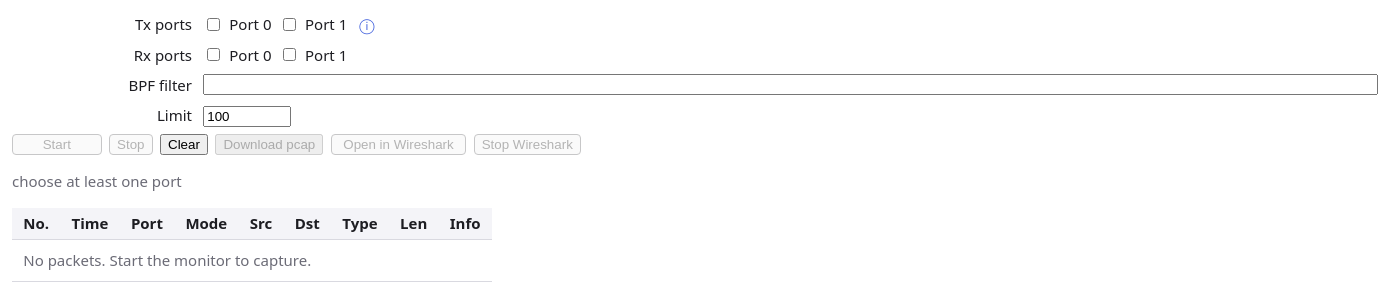
it: CaptureMonitor › a limit above 10000 shows the memory note
The width and height of the screenshot is (1390, 300).
Replace the text in the number field labelled "Limit" with "10001": (247, 116) top-left (203, 106), bottom-right (291, 126)
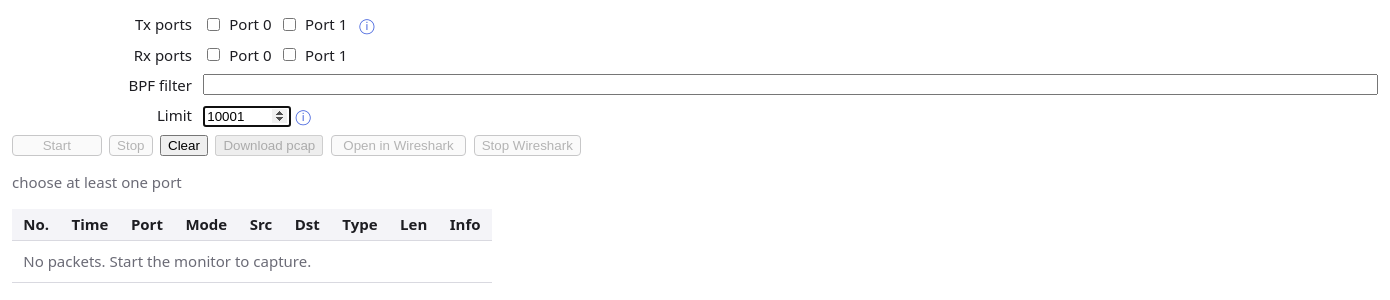
Expected: the button named "About the limit" is shown, top-left (291, 104), bottom-right (315, 128)
